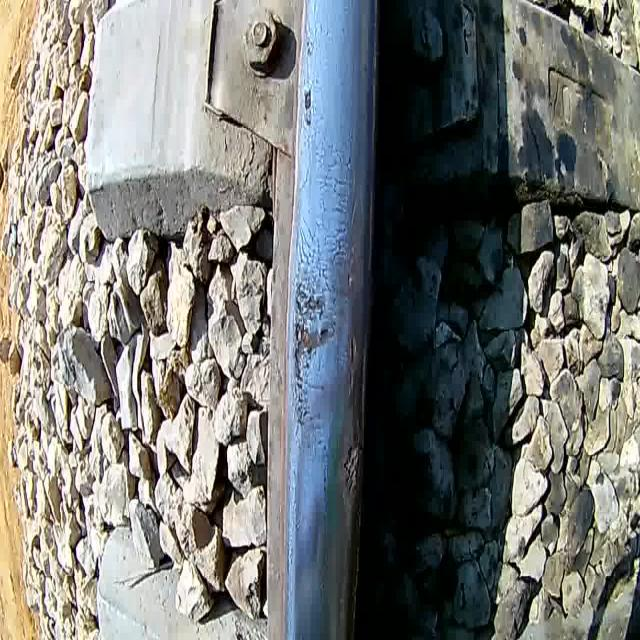Spallings: (292, 274, 336, 432), (342, 437, 367, 499), (346, 330, 358, 403)
Squats: (336, 322, 368, 548), (340, 217, 370, 300)
